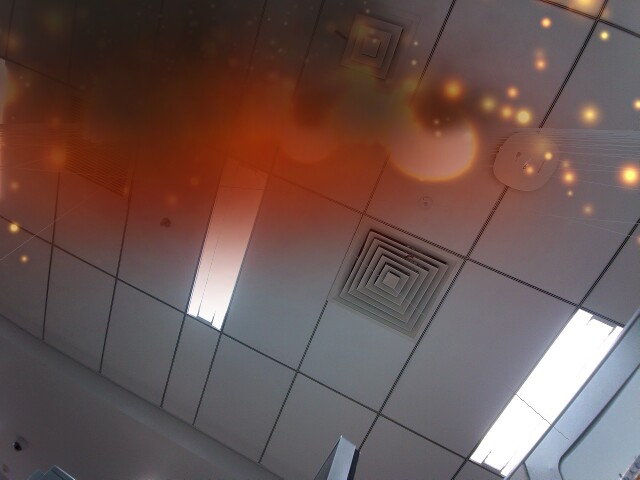fire: (380, 90, 487, 184), (274, 99, 341, 168)
